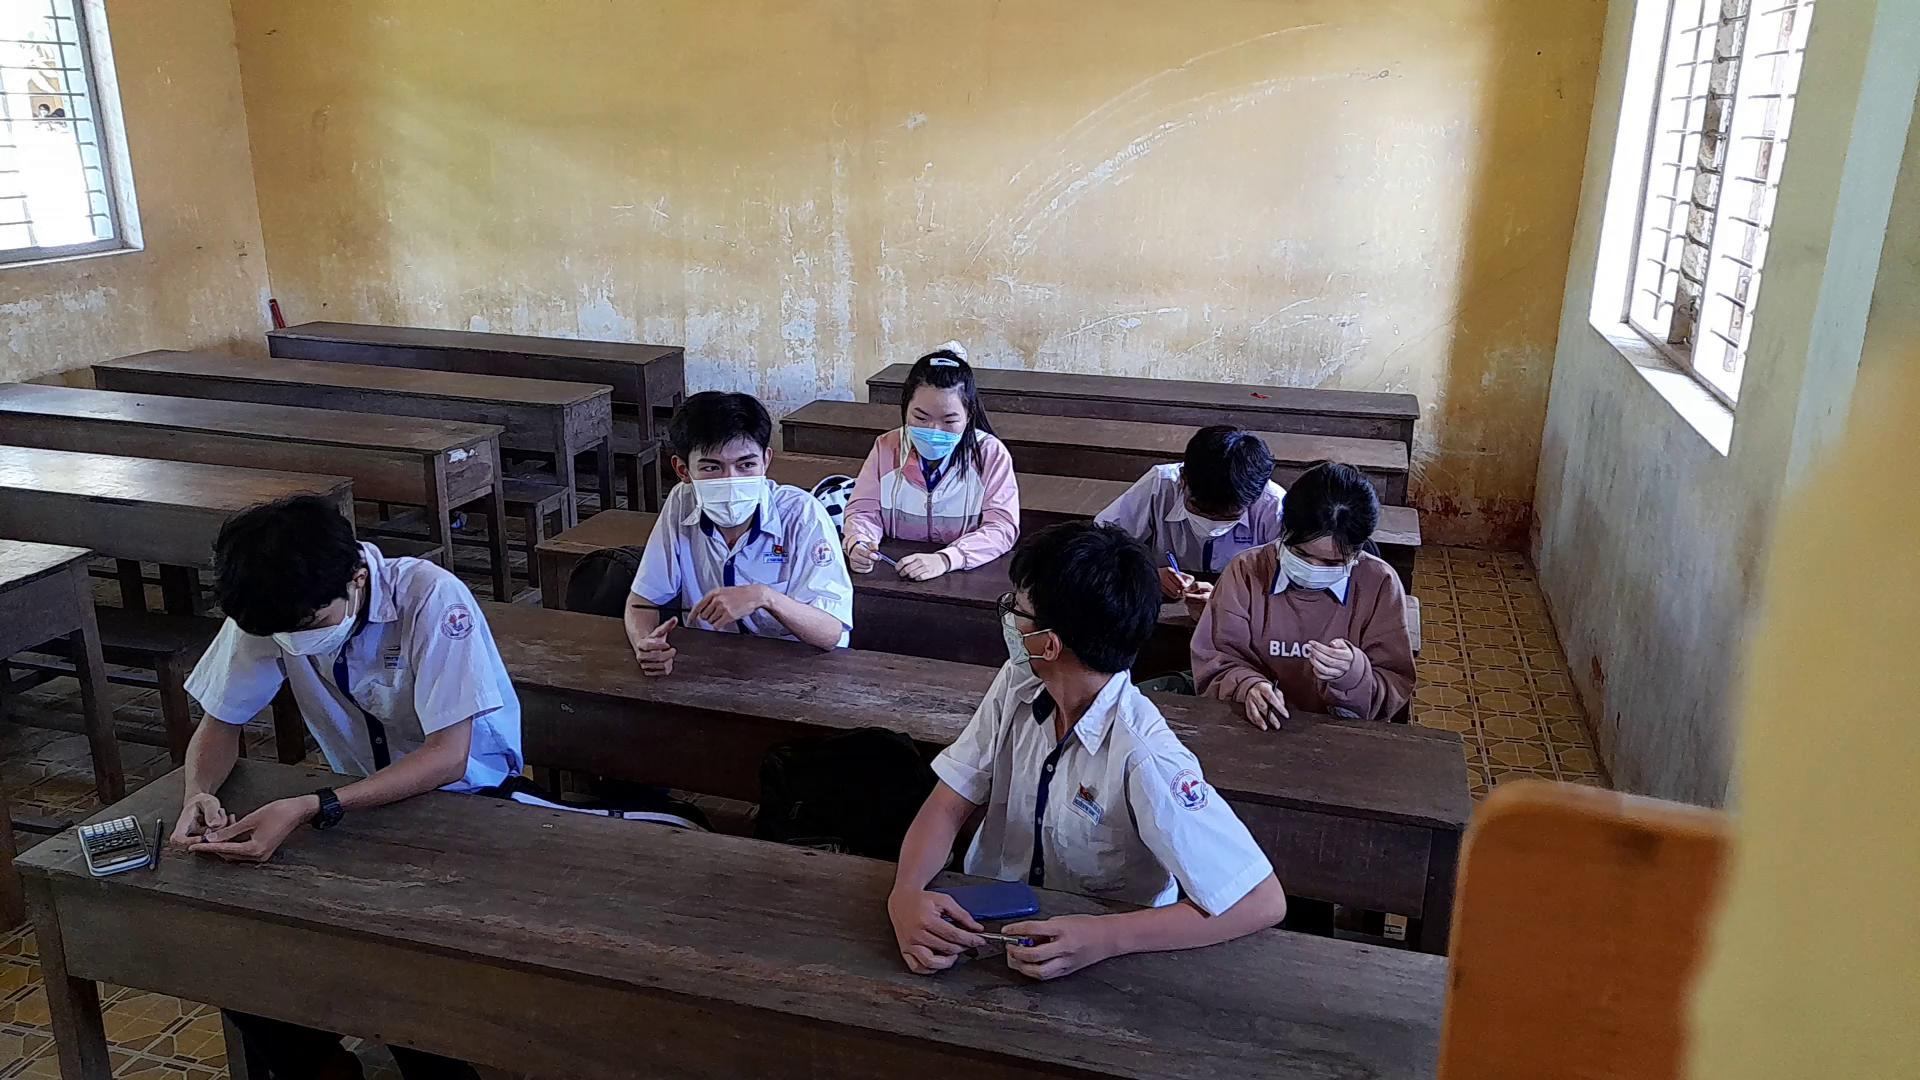Bend Over The Desk: (1255, 446, 1382, 612)
Look Around: (984, 509, 1160, 695)
Normal: (152, 487, 522, 869), (597, 378, 864, 671), (828, 326, 1022, 582)
